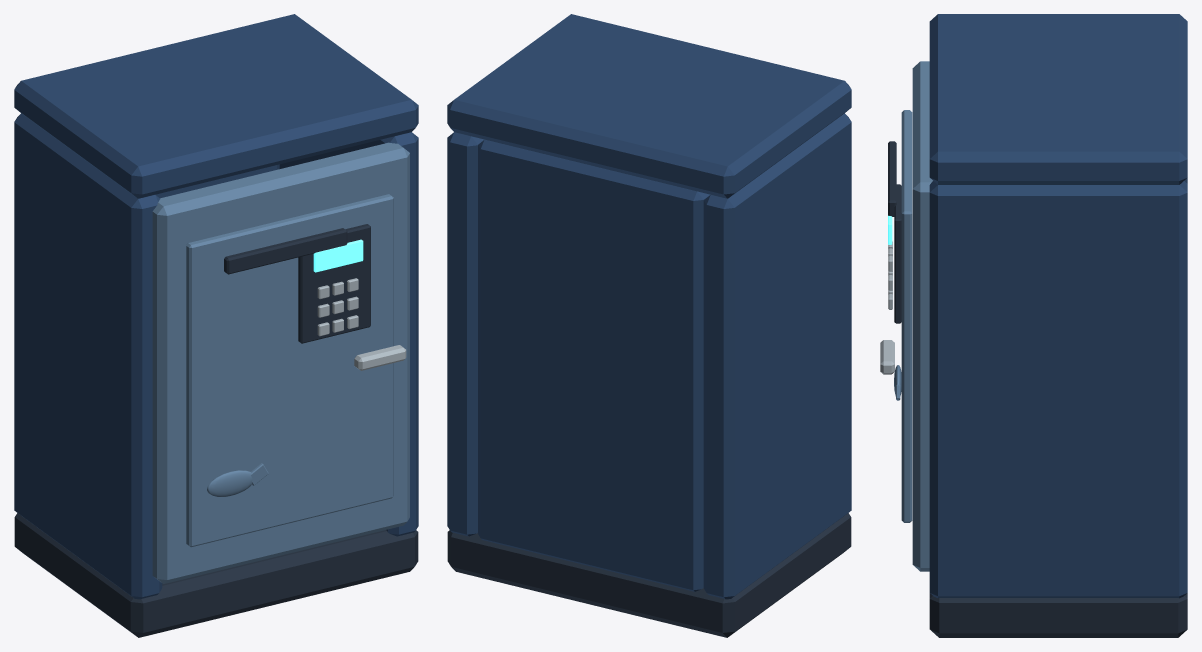
File: safes_07.glb
The picture shows the model from 3 angles, left to right: view 1: azimuth 30°, elevation 25°; view 2: azimuth 150°, elevation 25°; view 3: azimuth 270°, elevation 25°; orthographic projection. The views are drawn at different scales.
Parts seen in each view (by area): view 1: Side (×2), InsetPanel, Top, DoorPanel, Base, KeypadPanel, DepositSlot, TinyScreen, WhaleBody, Handle, Back; view 2: Back, Side (×2), Top, Base; view 3: Side, Top, Base, DoorPanel, InsetPanel, KeypadPanel, DepositSlot, Handle.
Part boxes in pixels (box(x1,y1,x2,y2)): Side (×2): box(14, 113, 418, 599); InsetPanel: box(186, 194, 393, 547); Top: box(14, 14, 418, 198); DoorPanel: box(152, 142, 409, 583); Base: box(14, 513, 418, 637); KeypadPanel: box(298, 224, 370, 343); DepositSlot: box(224, 228, 347, 274); TinyScreen: box(313, 239, 363, 272); WhaleBody: box(207, 470, 252, 496); Handle: box(354, 345, 406, 370); Back: box(155, 164, 279, 198); Back: box(478, 139, 710, 591); Side (×2): box(447, 113, 851, 599); Top: box(447, 14, 851, 198); Base: box(447, 513, 851, 637); Side: box(929, 181, 1187, 598); Top: box(929, 14, 1187, 184); Base: box(929, 593, 1187, 637); DoorPanel: box(912, 61, 932, 571); InsetPanel: box(901, 110, 912, 522); KeypadPanel: box(894, 184, 901, 323); DepositSlot: box(888, 141, 896, 216); Handle: box(880, 340, 894, 374).
Size of the model in its own units: 0.65 by 1.02 by 0.584.
